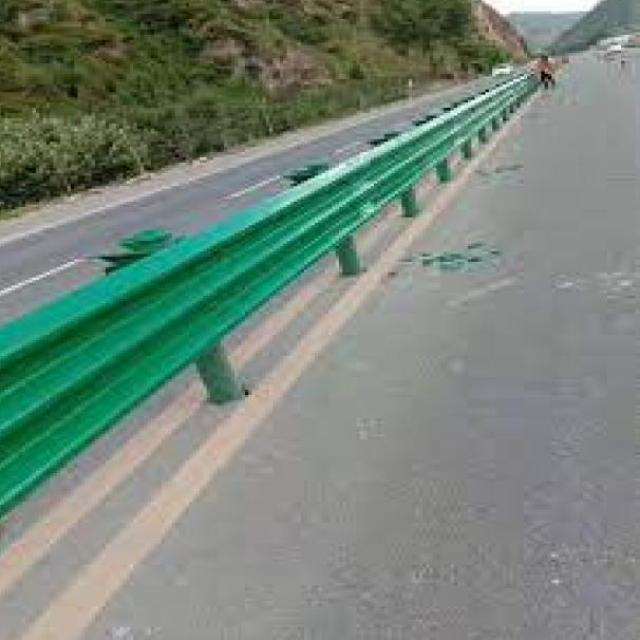Guard rail: (0, 74, 535, 518)
